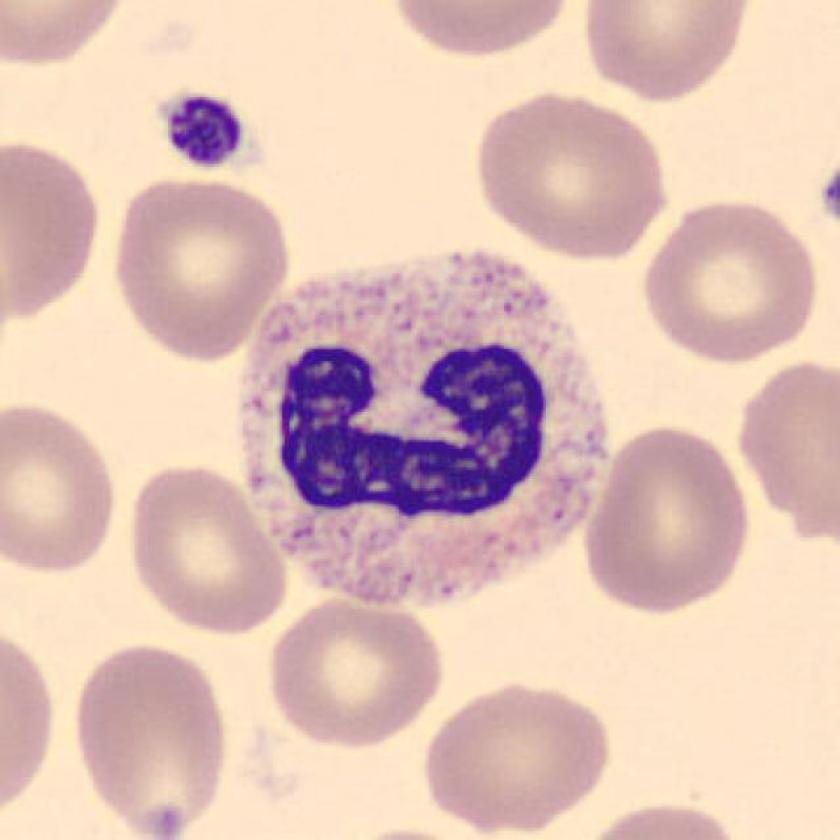neutrophil: (237, 251, 606, 608)
